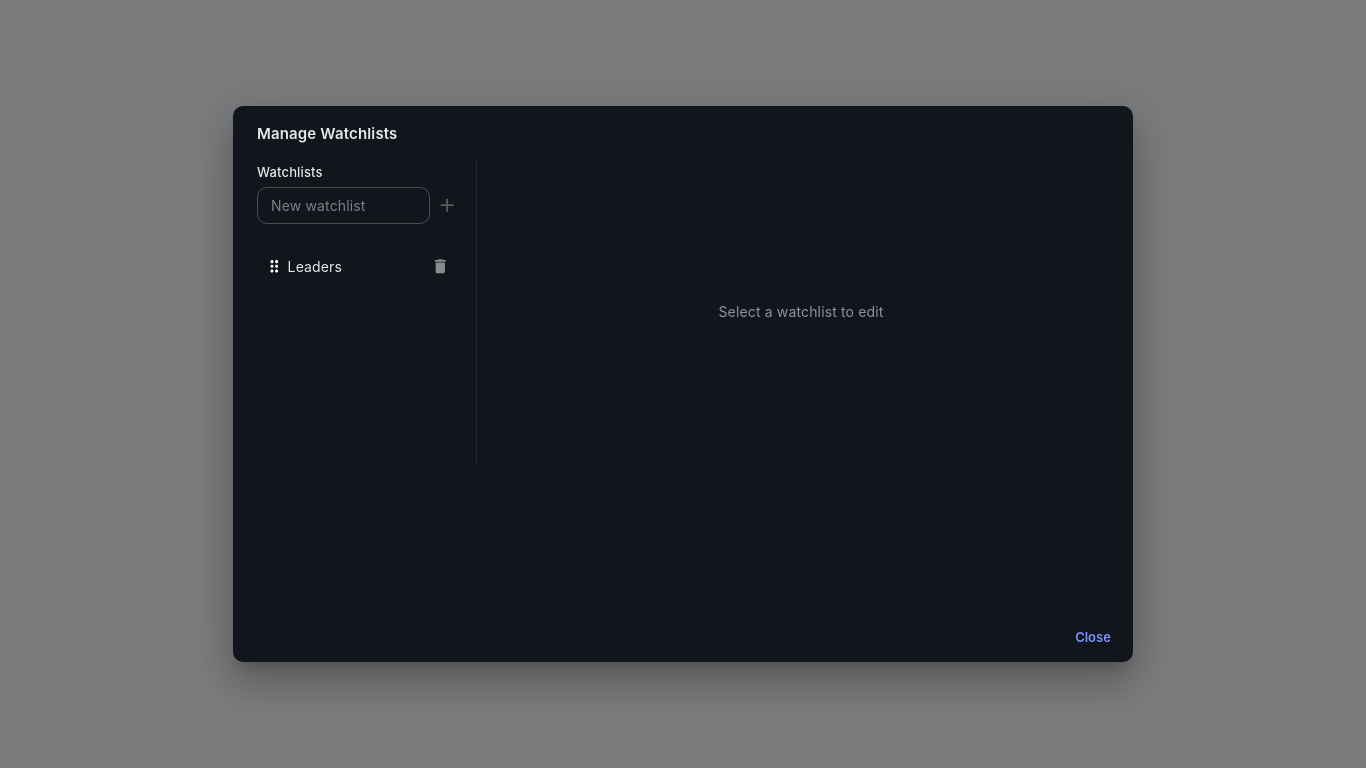
Test: UserWatchlistManager daily scan toggle › keeps the flag off and reports the error when saving fails
The width and height of the screenshot is (1366, 768).
Step 1. Click the button "Leaders" → [315, 266], box [249, 248, 468, 285]
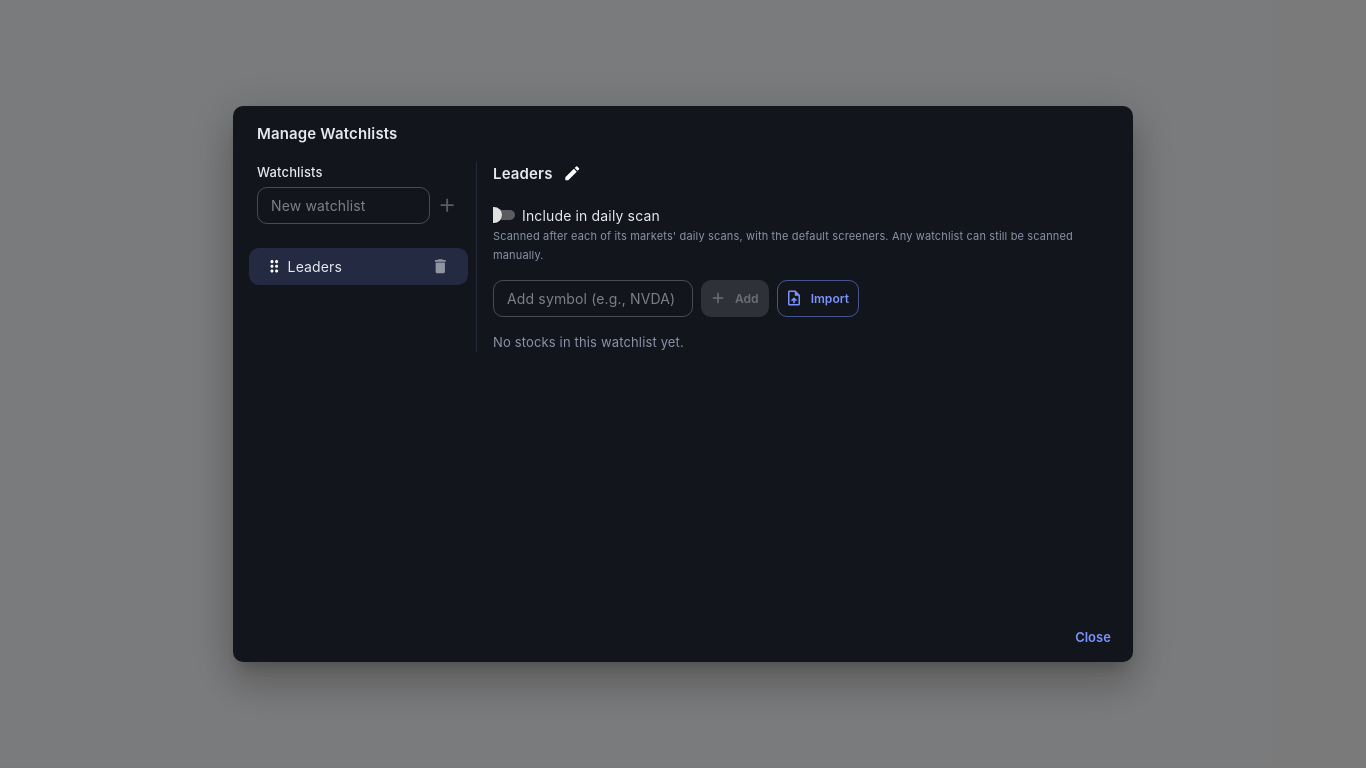
Step 2. Click the checkbox labelled "Include in daily scan" → [571, 215], box [482, 203, 660, 227]
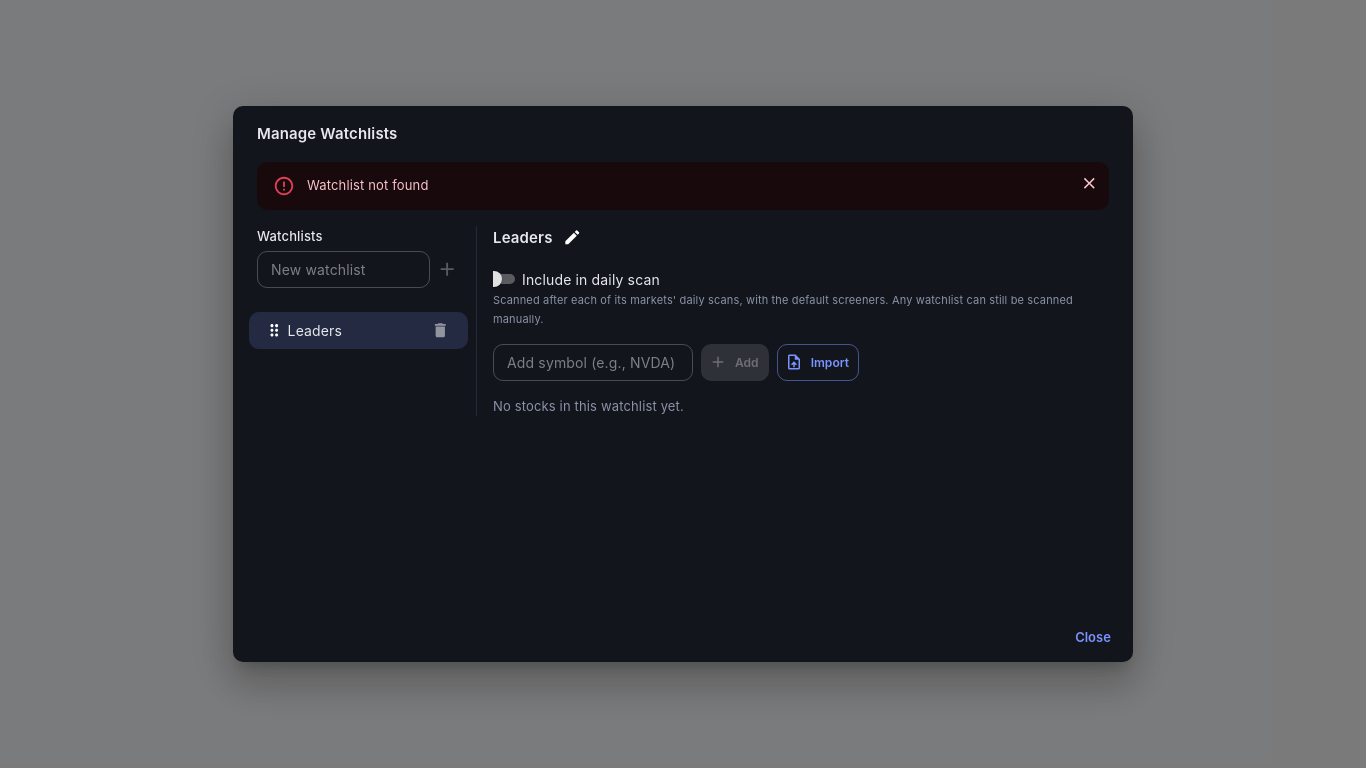
Check: the checkbox labelled "Include in daily scan" is not checked, box [493, 267, 660, 291]
Check: the text "Watchlist not found" is shown, box [307, 177, 428, 193]
